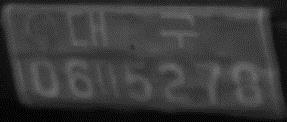0: (29, 58, 62, 98)
2: (156, 61, 192, 105)
5: (121, 60, 154, 102)
6: (63, 57, 96, 100)
7: (191, 61, 223, 107)
8: (229, 60, 265, 108)
나: (95, 61, 122, 99)
대구_D: (64, 8, 201, 49)
영: (24, 11, 59, 44)
